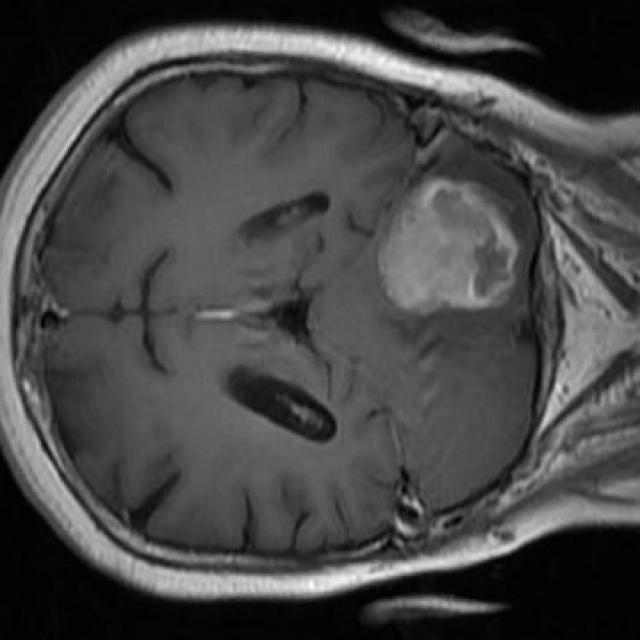meningioma: (380, 185, 517, 312)
